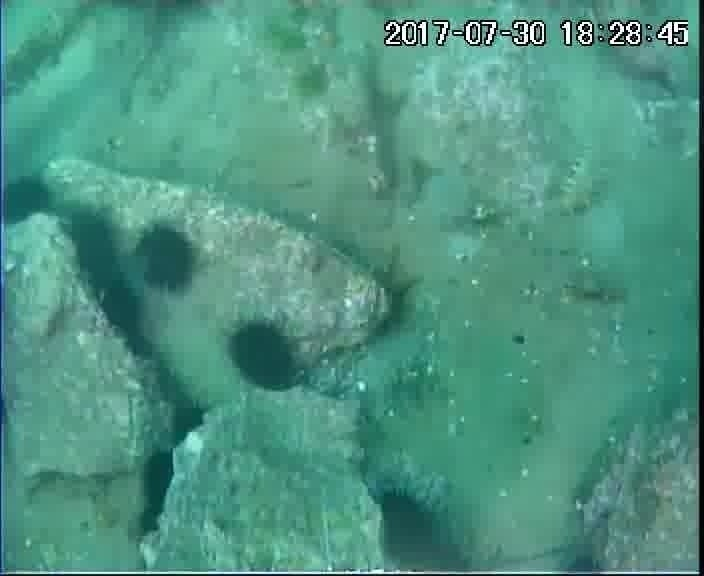echinus: (368, 483, 448, 568), (224, 316, 304, 395), (59, 208, 125, 294), (130, 220, 202, 298), (131, 445, 182, 539), (90, 276, 149, 342), (0, 170, 57, 232), (161, 397, 212, 451)
holothurian: (549, 141, 611, 218)
